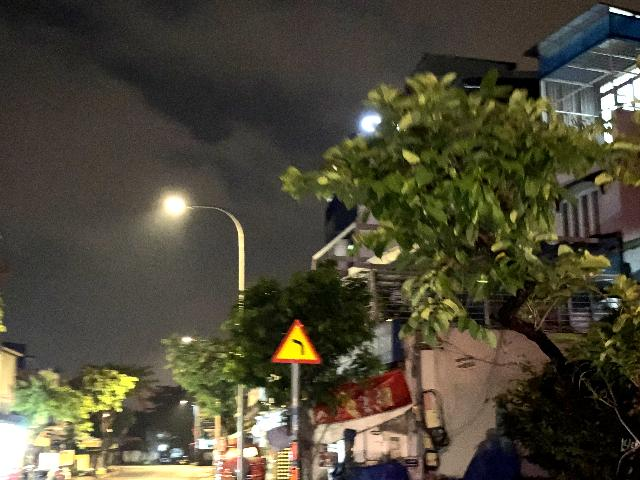cho-ngoat-nguy-hiem-ben-trai: (271, 317, 321, 364)
